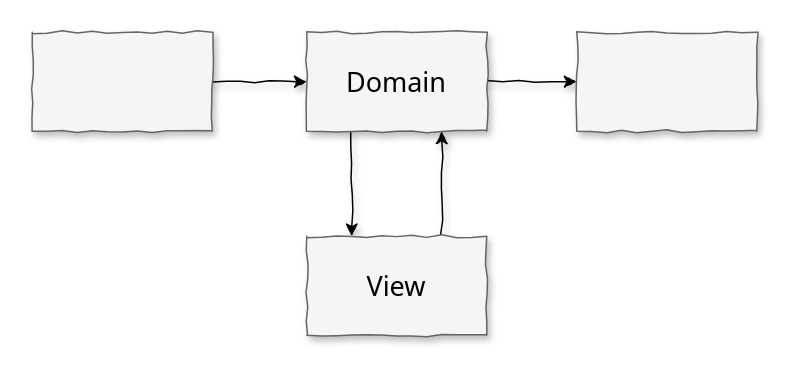
This 792x372 diagram has some shape labels left out. The shapes that lost their labels are listed below. From the top down, each one's centre as x and y in pixels, then its label:
(x=123, y=83): Response DTO
(x=667, y=83): Request DTO
